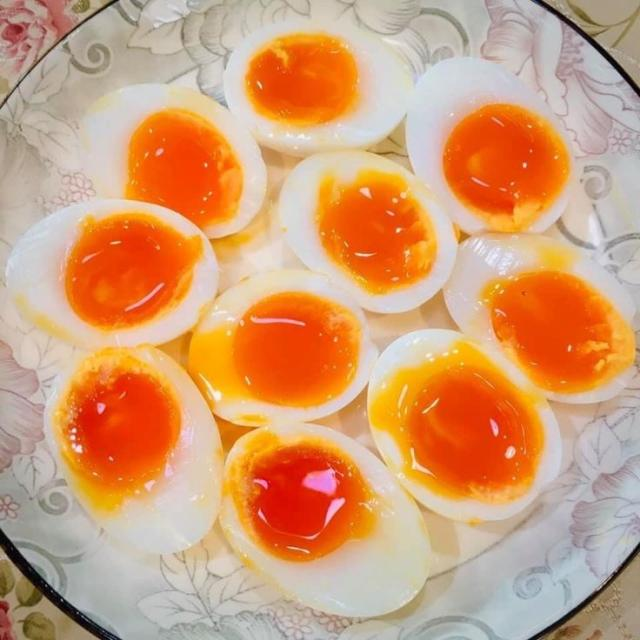egg boiled: (220, 424, 430, 616), (368, 329, 560, 522), (45, 347, 222, 553), (445, 234, 635, 403), (7, 200, 218, 348), (188, 270, 377, 426), (407, 58, 573, 234), (280, 151, 457, 313), (82, 84, 266, 238), (224, 19, 413, 156)
